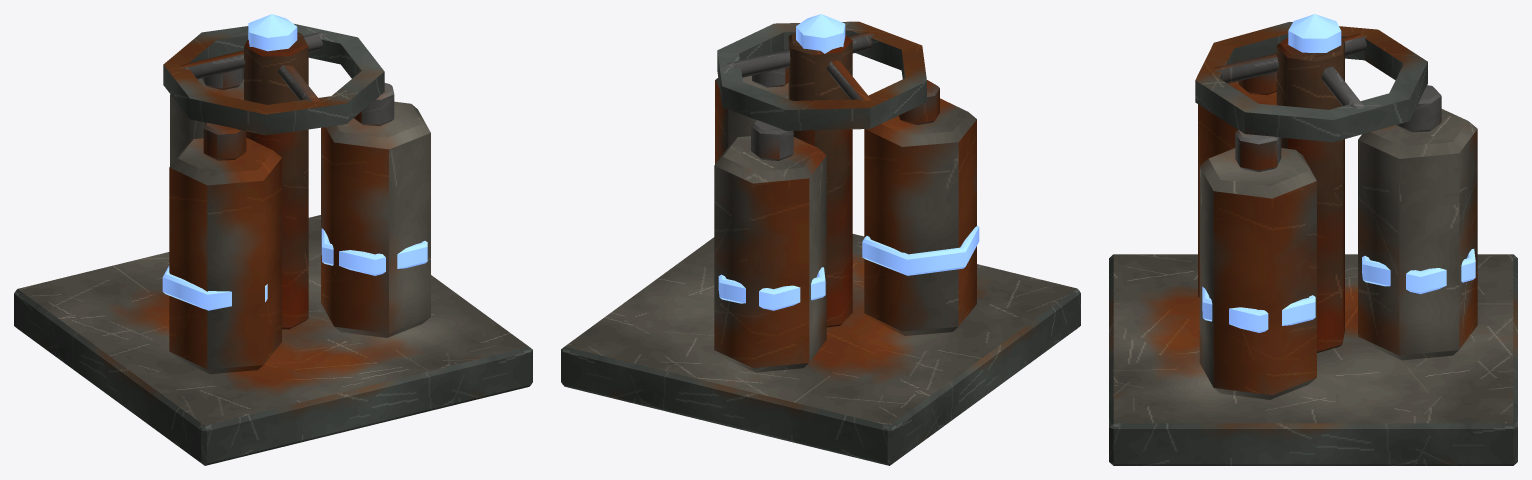
Rendered from R4X_ChargeRegenerator_LOD1.glb.
3 views of the same model, side by side, from view 1: azimuth 30°, elevation 25°; view 2: azimuth 150°, elevation 25°; view 3: azimuth 270°, elevation 25° (orthographic). The views are drawn at different scales.
Visible parts, largest first — view 1: R4X_ChargeRegenerator_LOD1; view 2: R4X_ChargeRegenerator_LOD1; view 3: R4X_ChargeRegenerator_LOD1.
Part boxes in pixels (bbox=[...]): R4X_ChargeRegenerator_LOD1: bbox=[14, 14, 532, 465]; R4X_ChargeRegenerator_LOD1: bbox=[561, 14, 1080, 465]; R4X_ChargeRegenerator_LOD1: bbox=[1109, 14, 1517, 465].
Size of the model in its own units: 0.52 by 0.515 by 0.52.
5 materials, 4 textured.
